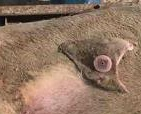text: (88, 52, 119, 77)
